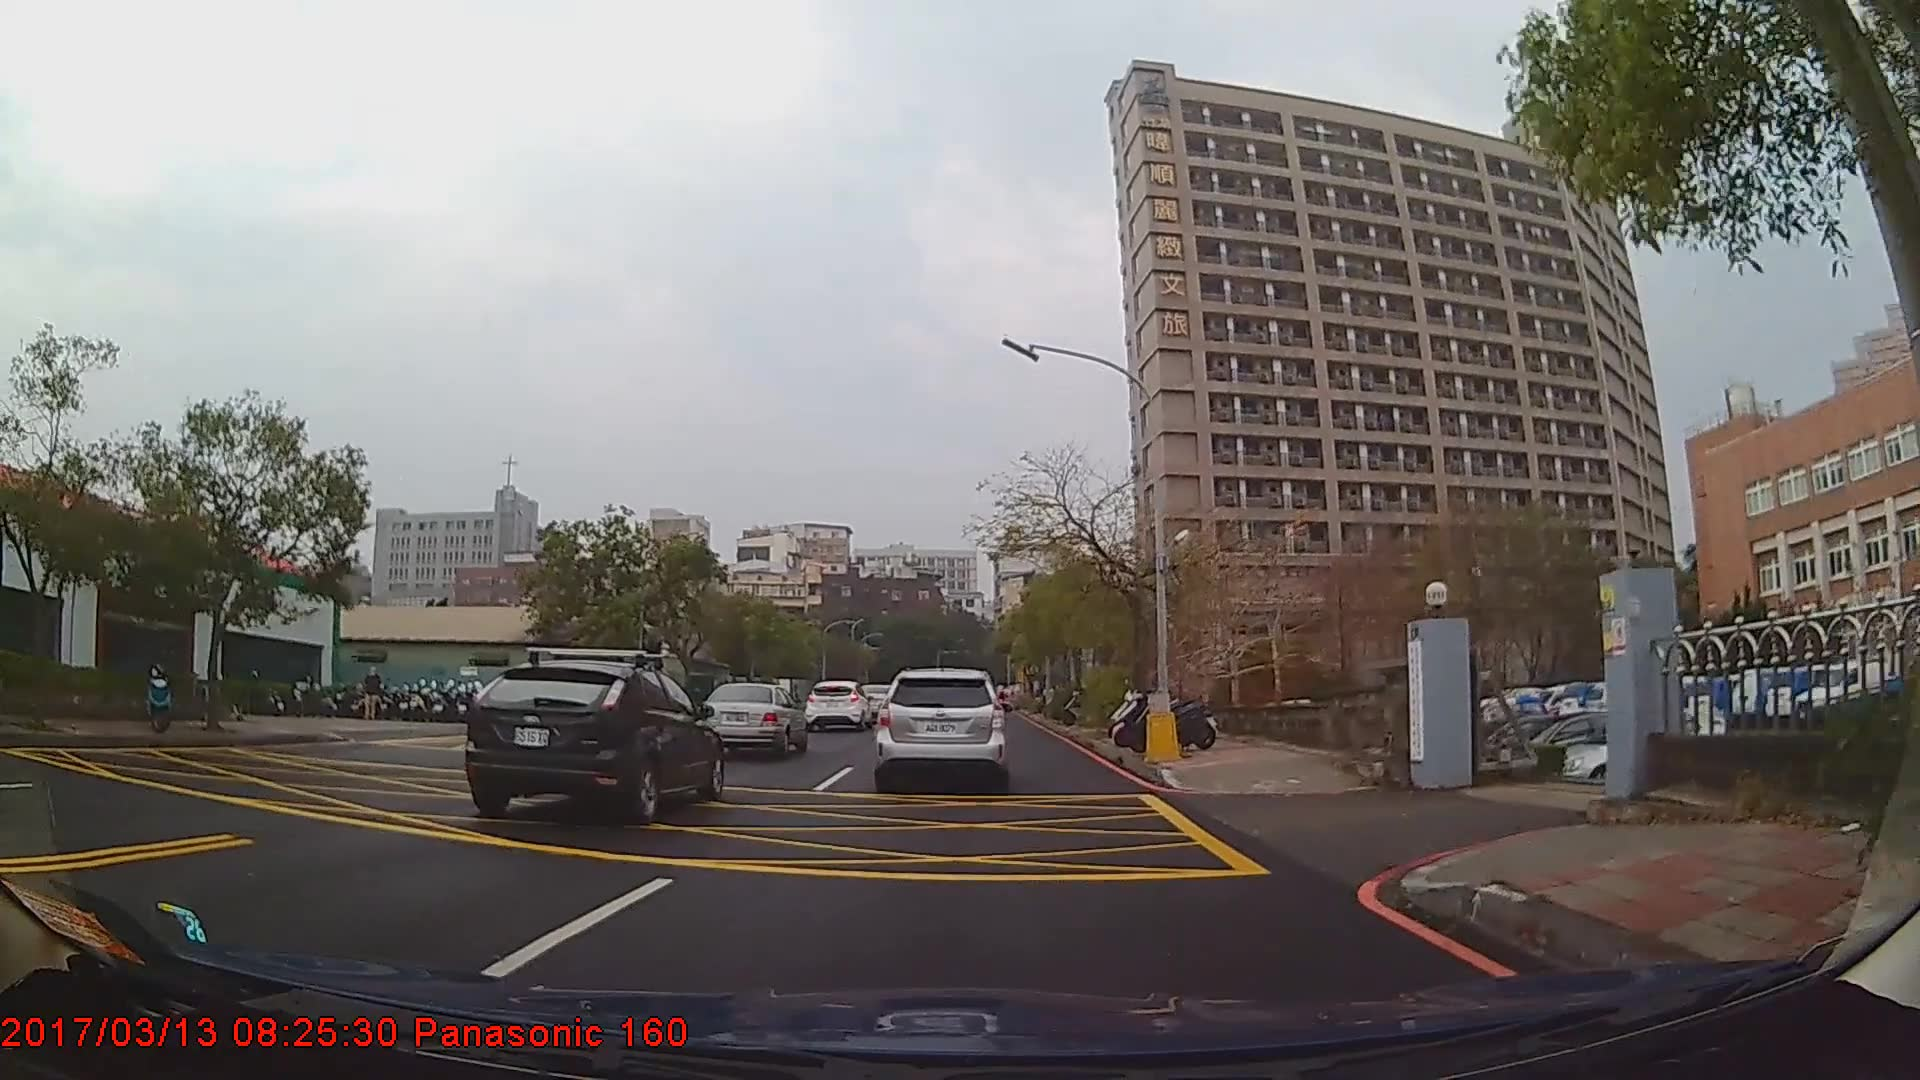pedestrian: (364, 666, 384, 724)
vehicle: (461, 661, 721, 826), (875, 667, 1005, 787), (699, 681, 808, 758), (804, 679, 871, 732)
